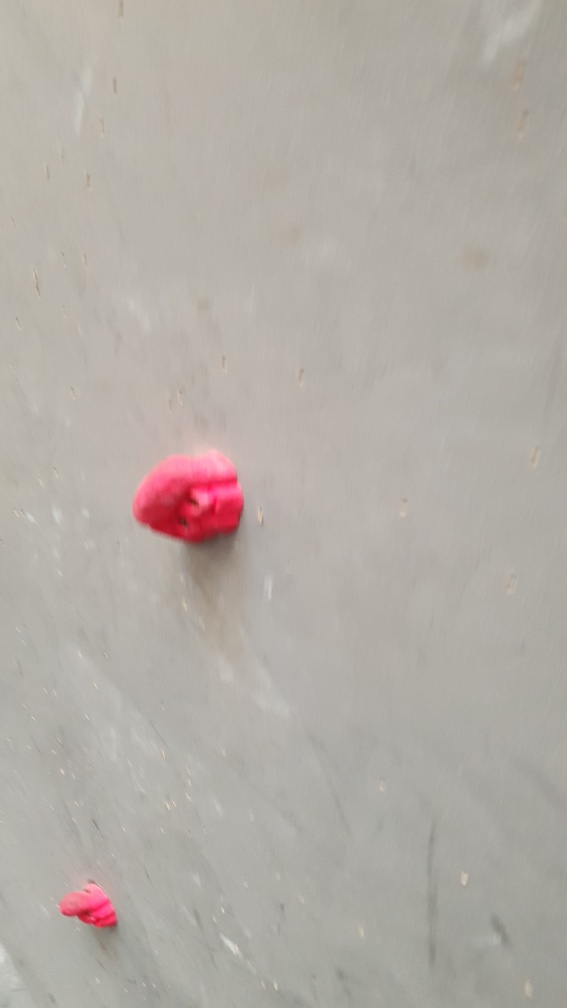Jug: (127, 443, 248, 551), (54, 873, 121, 930)
